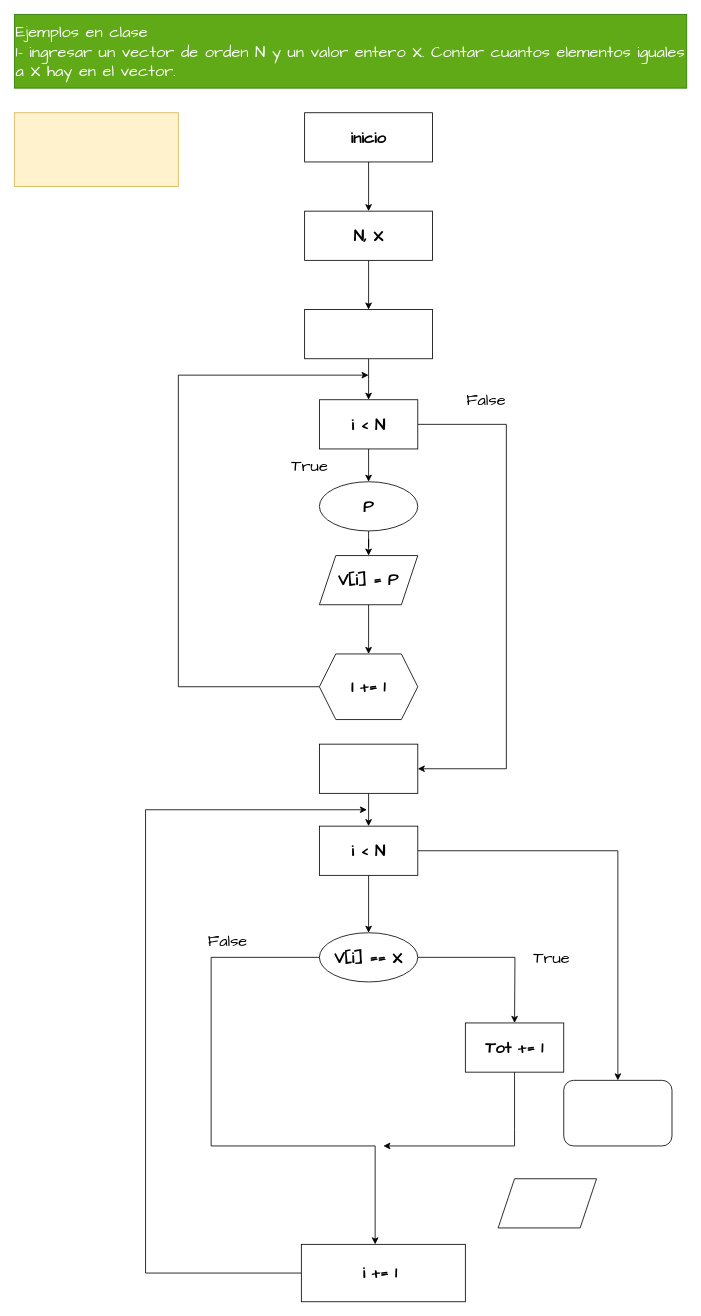
Image size: 701x1316. Some labels were removed from this diagram. The centre of each missing label's shape, as x and y in pixels:
fin: [547,1203]
i = 0: [368,334]
i = 0 Tot = 0: [368,768]
Se encontro X cantidad de veces: [617,1113]
vector = Array Orden = n° de posiciones del array: [96,149]
